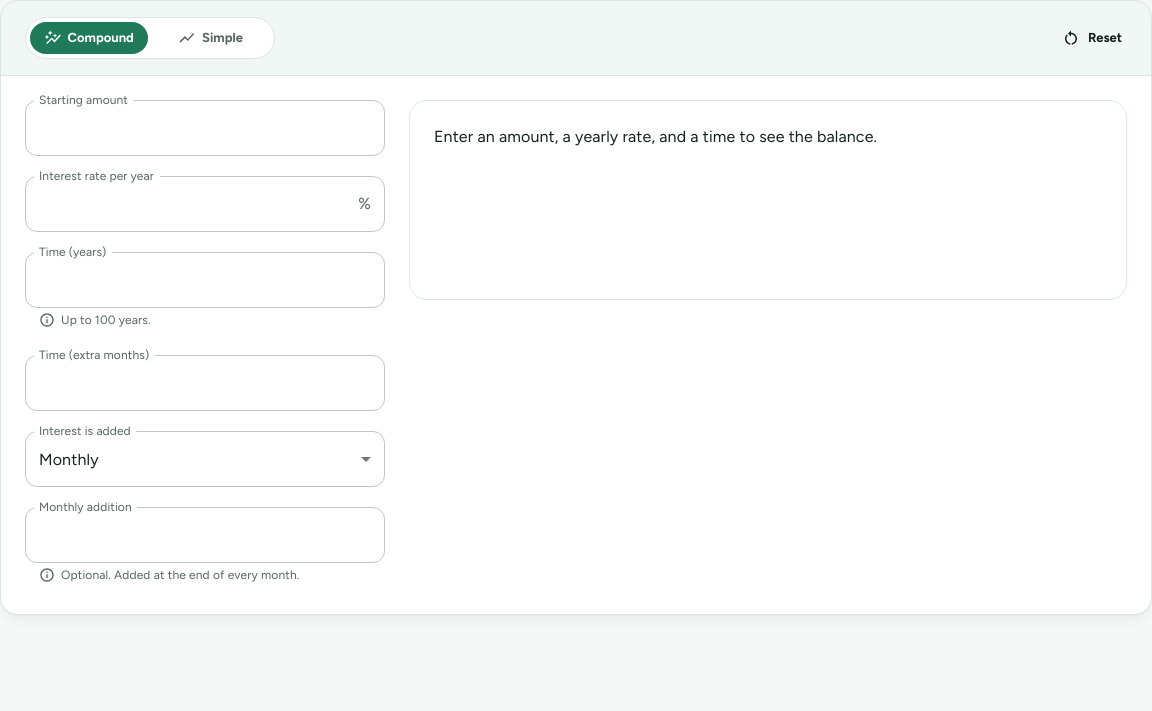
Test: InterestCalculatorTool › changes the answer when interest is added more often
This screenshot has width=1152, height=711.
Type "10000" into the number field labelled "Starting amount" at (205, 128), box [25, 100, 385, 156]
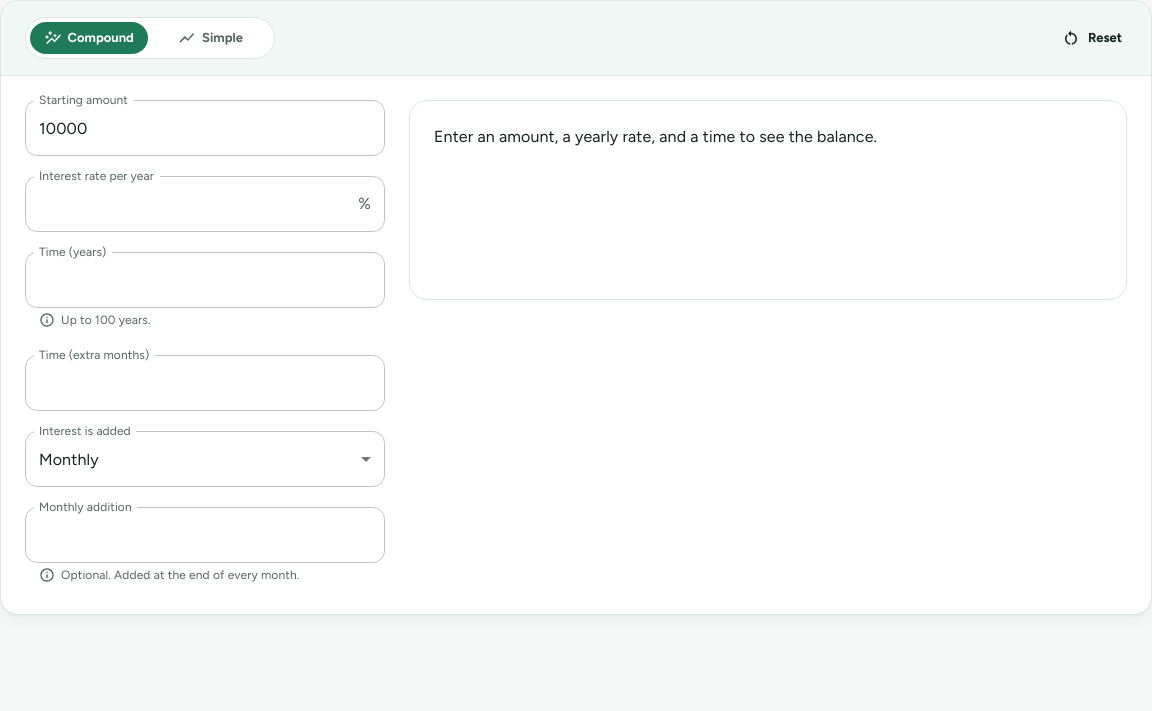
Type "5" into the number field labelled "Interest rate per year" at (188, 204), box [25, 176, 350, 232]
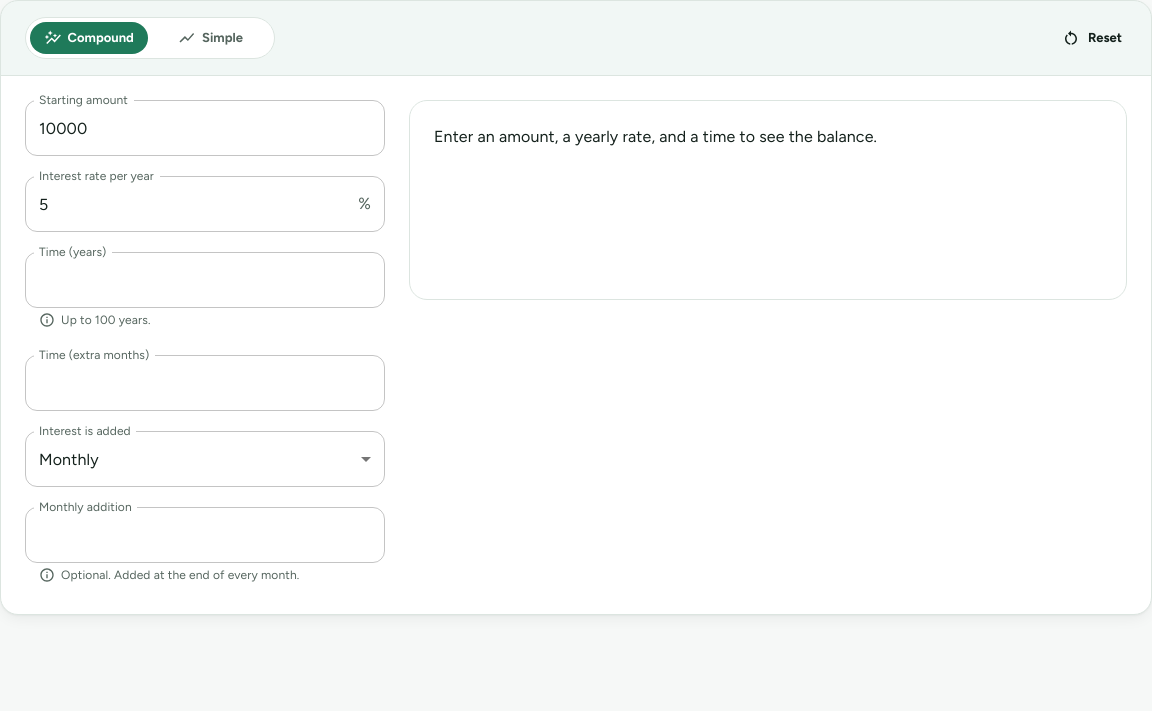
Type "10" into the number field labelled "Time (years)" at (205, 280), box [25, 252, 385, 308]
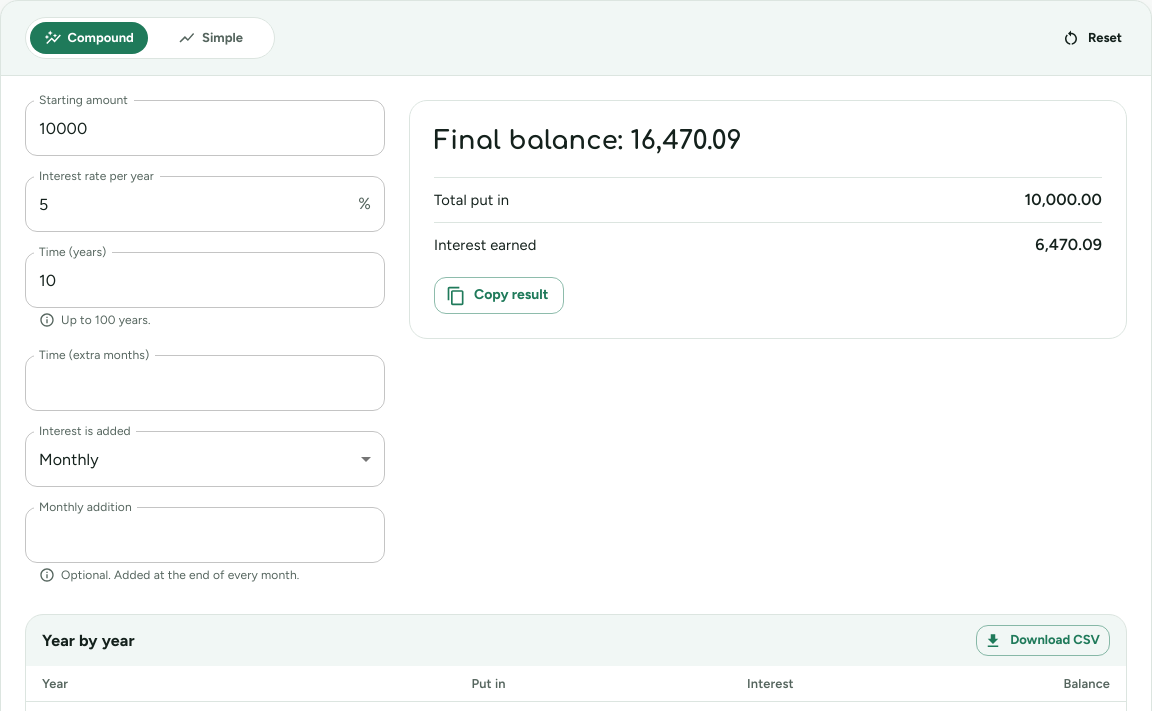
Press the mouse on the dropdown named "Interest is added" at (69, 459), box [39, 450, 99, 469]
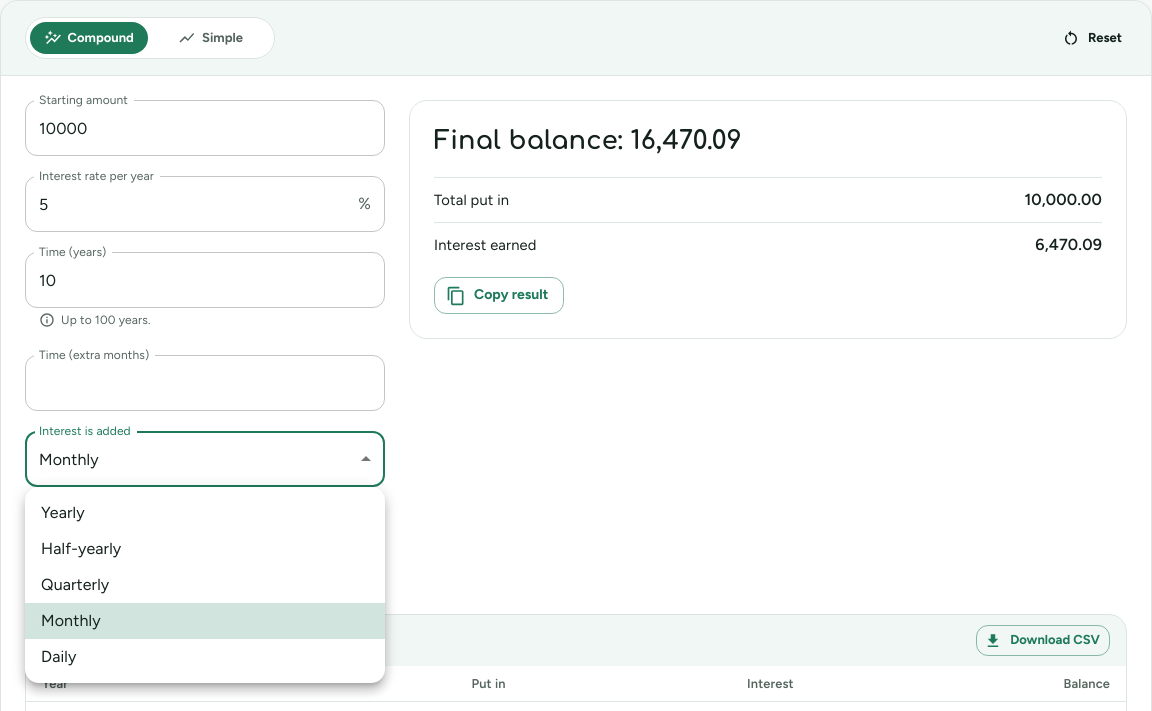
Click the option "Yearly" at (63, 512), box [41, 503, 85, 522]
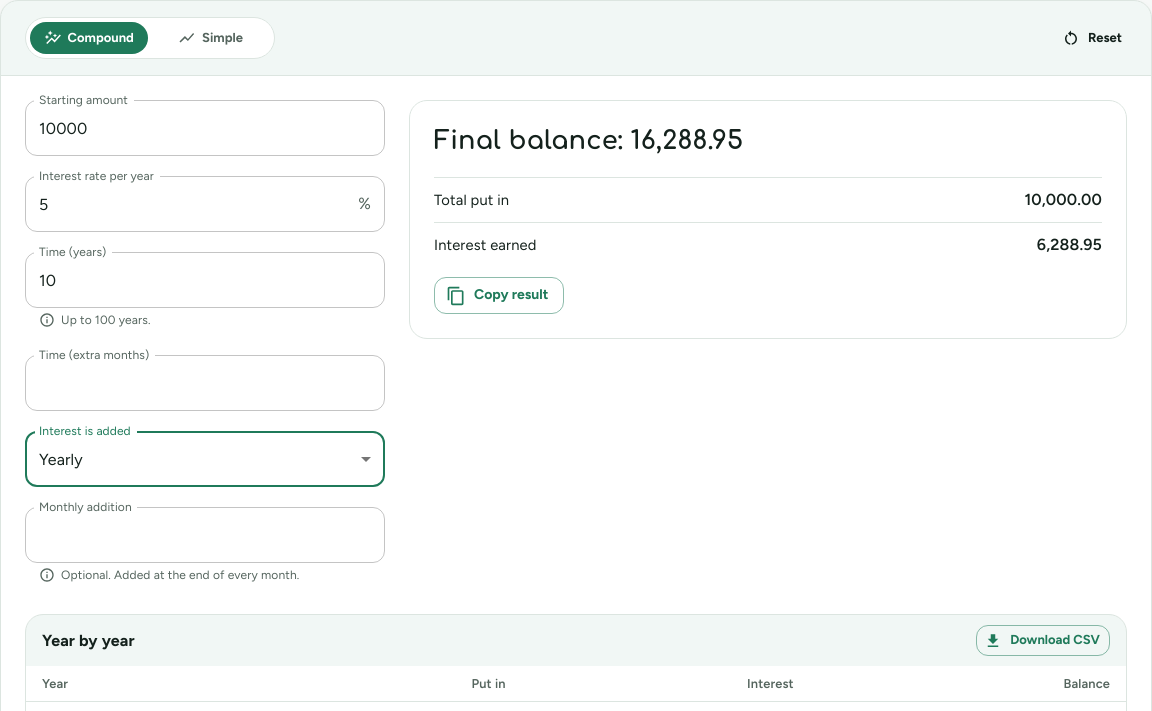
expect the text "Final balance: 16,288.95" is shown: met, box [434, 126, 743, 155]
